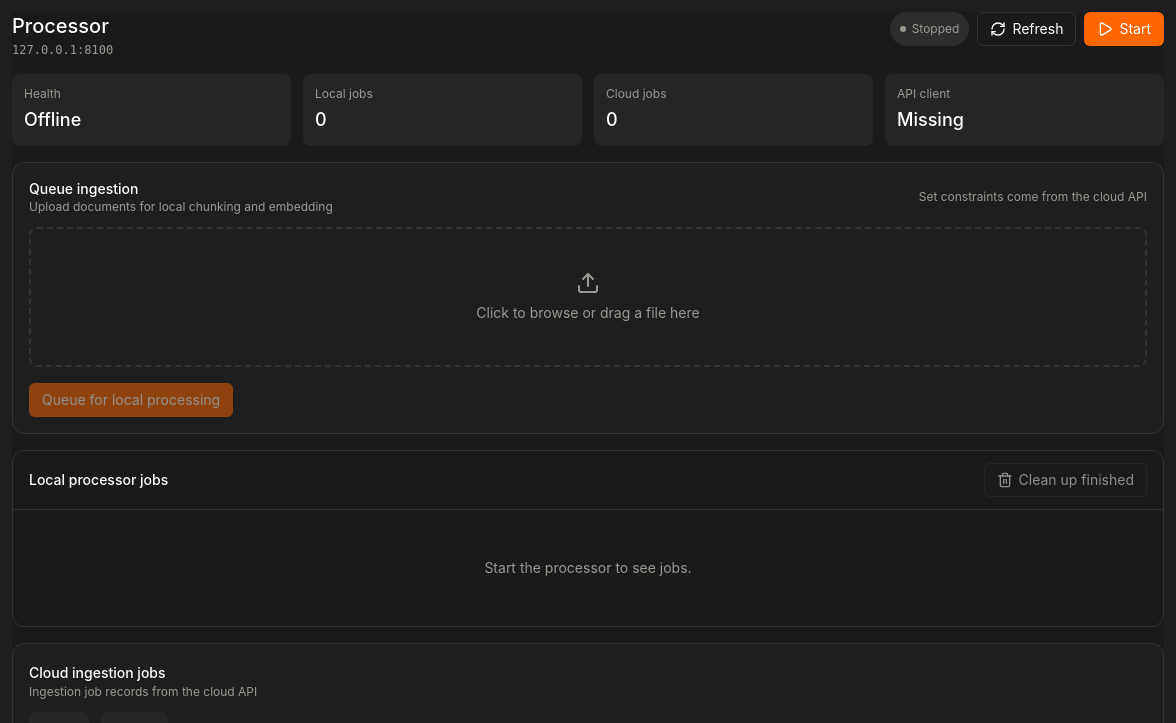
ProcessorScreen — cloud job source file name subtitle › blocks queueing when the upload secret is missing
This screenshot has width=1176, height=723.
Check: the text "Stopped" is shown, box [890,12,970,46]
Click the text "Click to browse or drag a file here".
click(588, 313)  # box [476,303,700,323]
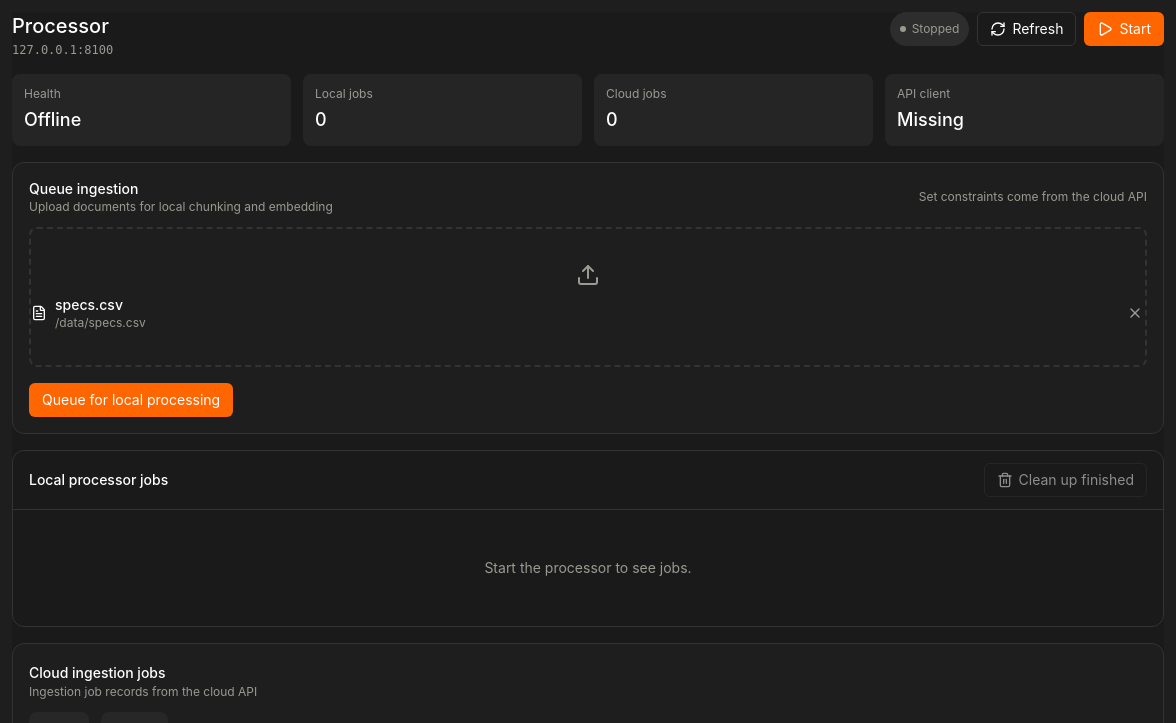
Check: the text "specs.csv" is shown, box [55,296,123,313]
Click the button "Queue for local processing".
click(131, 400)  # box [29,383,233,417]
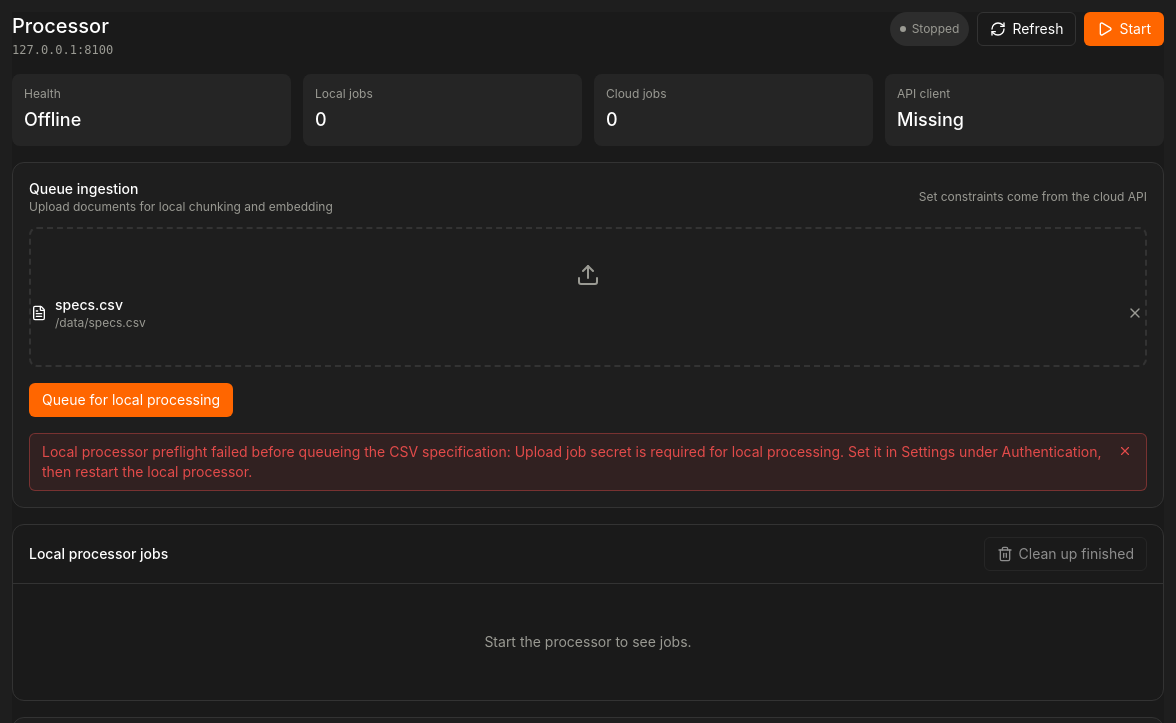
Check: the text "Upload job secret is required" is shown, box [42,443,1105,480]
